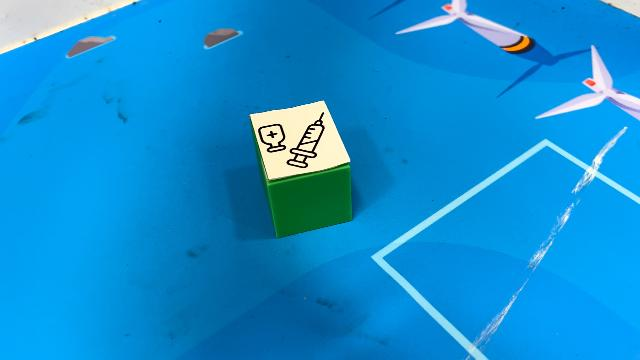syringe: (249, 100, 353, 238)
